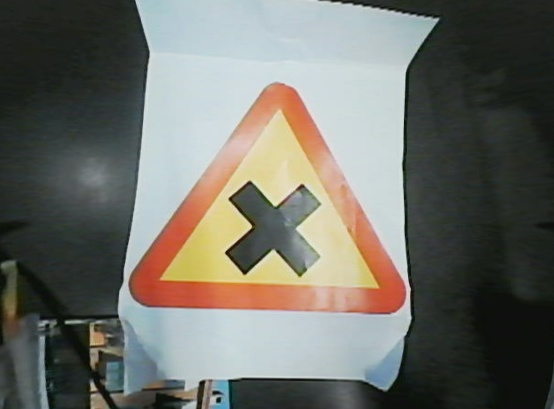junction: (125, 84, 414, 316)
